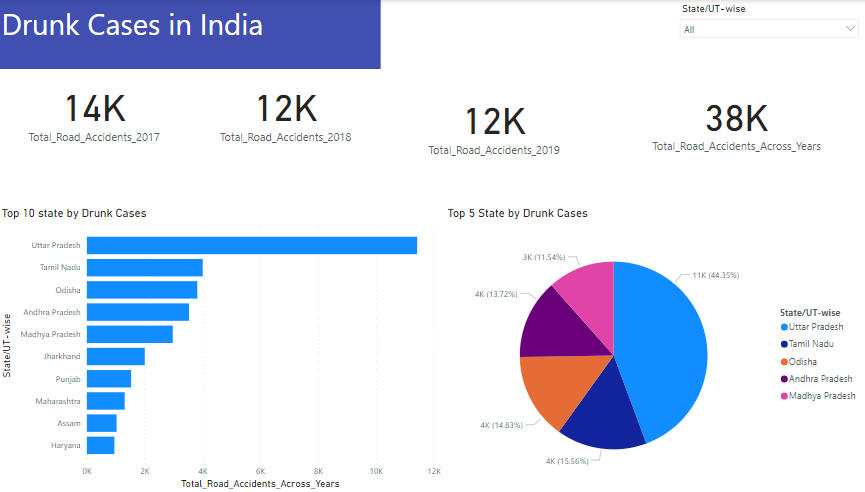

The page's visual inventory and layout, read from the dashboard file:
{"tool":"powerbi","page":{"name":"Drunk_cases","canvas":[1280,720],"ordinal":3},"visuals":[{"type":"textbox","box":[10.2,0,560.5,101],"z":0},{"type":"card","fields":{"Values":["Drunk cases.Total_Road_Accidents_2017"]},"box":[10.2,101,281,121.5],"z":1000},{"type":"card","fields":{"Values":["Drunk cases.Total_Road_Accidents_2018"]},"box":[291.2,101,279.5,121.5],"z":2000},{"type":"card","fields":{"Values":["Drunk cases.Total_Road_Accidents_2019"]},"box":[570.7,101,330.7,159.5],"z":3000},{"type":"clusteredBarChart","title":"Top 10 state by Drunk Cases","fields":{"Category":["Drunk cases.State/UT-wise"],"Y":["Drunk cases.Total_Road_Accidents_Across_Years"]},"box":[10.2,301.5,652.7,418.5],"z":4000},{"type":"card","fields":{"Values":["Drunk cases.Total_Road_Accidents_Across_Years"]},"box":[901.5,101,379,149.3],"z":5000},{"type":"pieChart","title":"Top 5 State by Drunk Cases","fields":{"Category":["Drunk cases.State/UT-wise"],"Y":["Drunk cases.Total_Road_Accidents_Across_Years"]},"box":[662.9,301.5,617.6,418.5],"z":6000},{"type":"slicer","fields":{"Values":["Drunk cases.State/UT-wise"]},"box":[998,0,282.4,70.2],"z":7000}]}

Visuals, with their boxes in screenshot pixels (x1, y1, x2, y2), scaled from the page's 1280x720 canvas onto the 865x492 screenshot:
textbox: box(7, 0, 386, 69)
card - Drunk cases.Total_Road_Accidents_2017: box(7, 69, 197, 152)
card - Drunk cases.Total_Road_Accidents_2018: box(197, 69, 386, 152)
card - Drunk cases.Total_Road_Accidents_2019: box(386, 69, 609, 178)
"Top 10 state by Drunk Cases" clusteredBarChart: box(7, 206, 448, 491)
card - Drunk cases.Total_Road_Accidents_Across_Years: box(609, 69, 864, 171)
"Top 5 State by Drunk Cases" pieChart: box(448, 206, 864, 491)
slicer - Drunk cases.State/UT-wise: box(674, 0, 864, 48)
